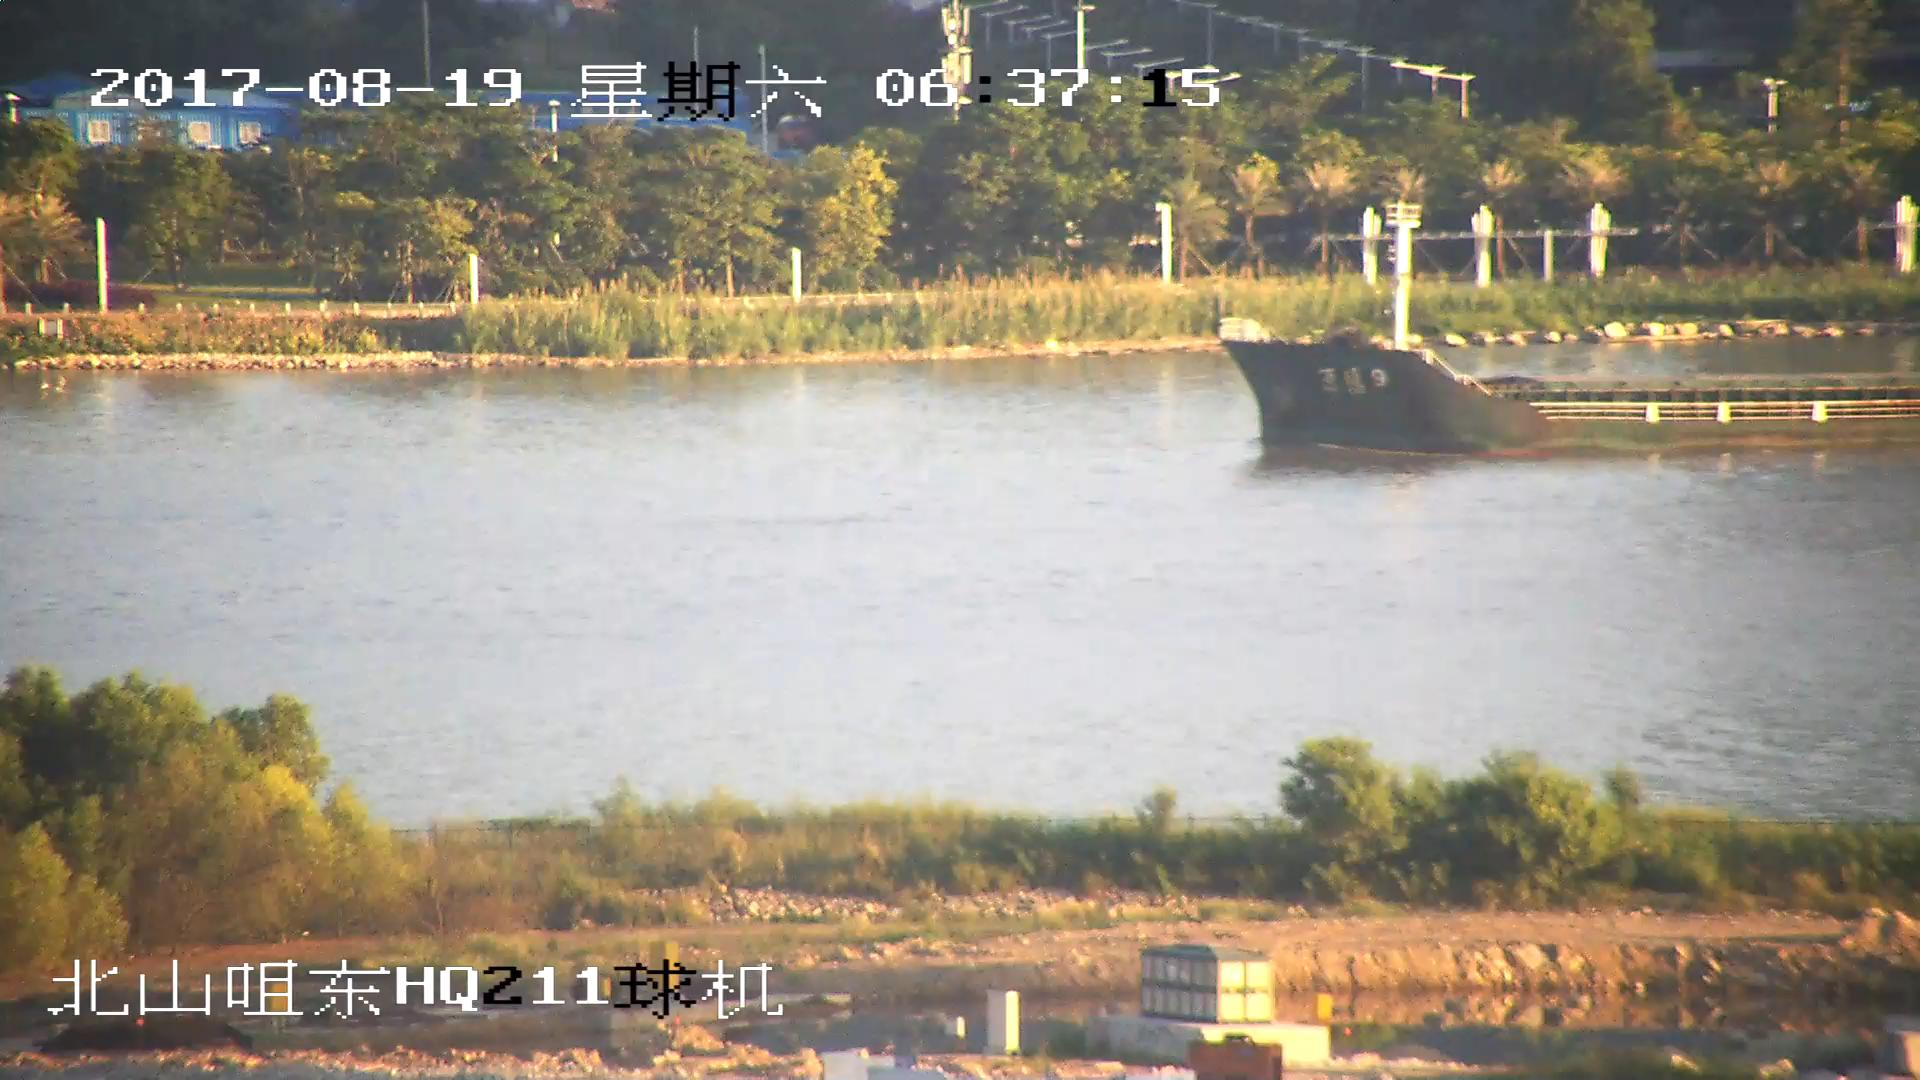general cargo ship: (1215, 220, 1920, 446)
